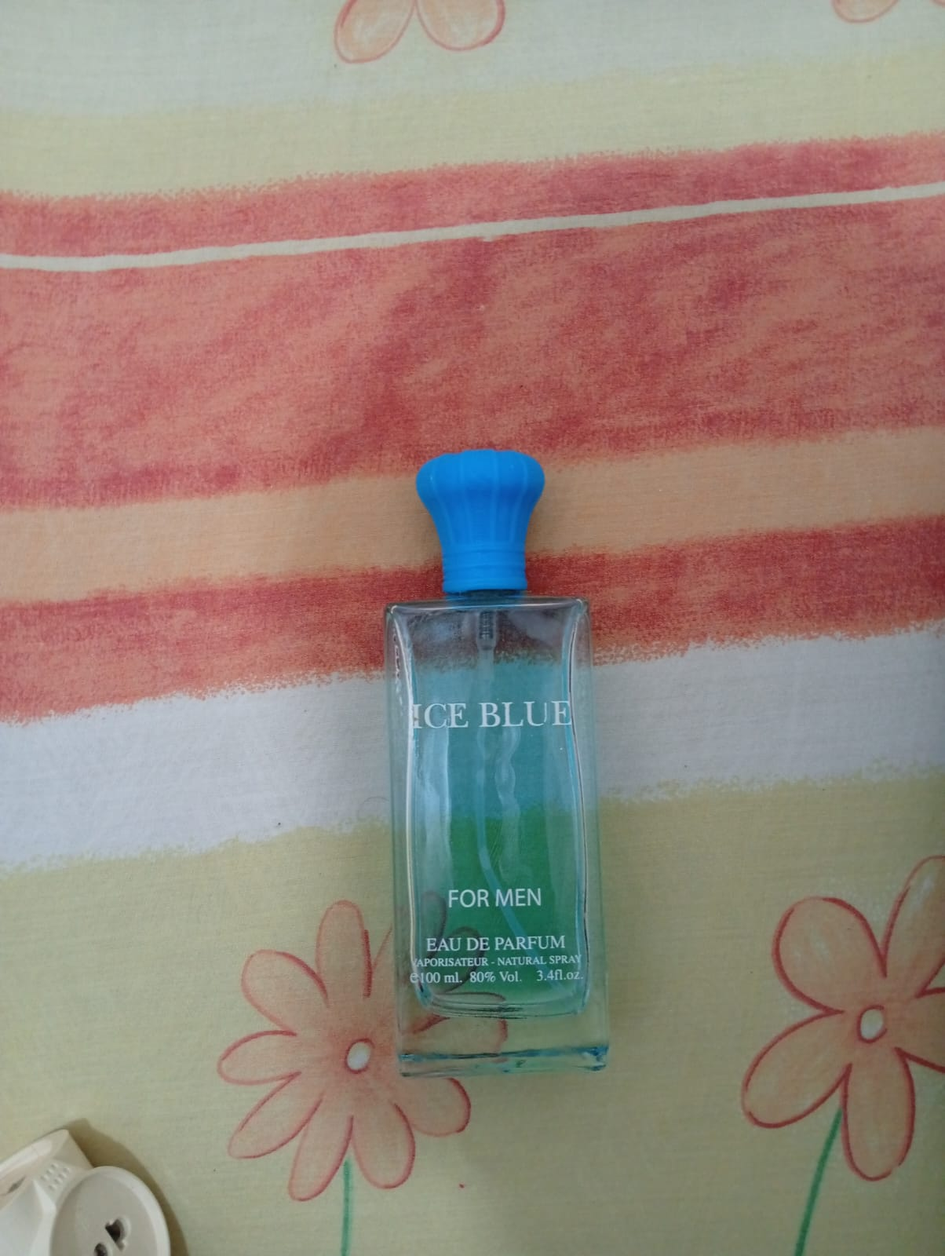Parfum: (348, 441, 649, 1088)
